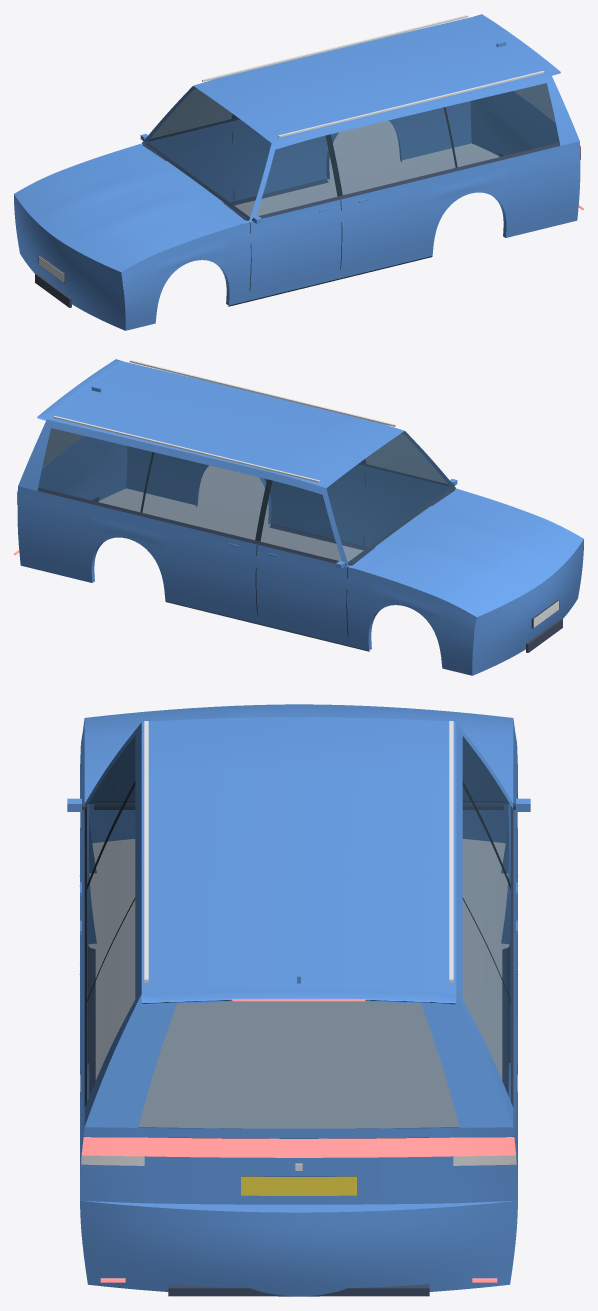
File: estate.glb
3 renders of one model, top to bottom at view 1: azimuth 30°, elevation 25°; view 2: azimuth 150°, elevation 25°; view 3: azimuth 270°, elevation 25°, orthographic. The views are drawn at different scales.
Parts seen in each view (by area): view 1: BodyShell, Tailgate; view 2: BodyShell, Tailgate; view 3: BodyShell, Tailgate.
Boxes of the visible parts, x1,y1,x2,y2 form: BodyShell: (14,15,583,330); Tailgate: (473,14,560,146); BodyShell: (14,360,583,675); Tailgate: (37,359,124,491); BodyShell: (67,704,530,1296); Tailgate: (85,989,512,1204).
Bounding box in the file's own units: 473 × 137 × 195.
